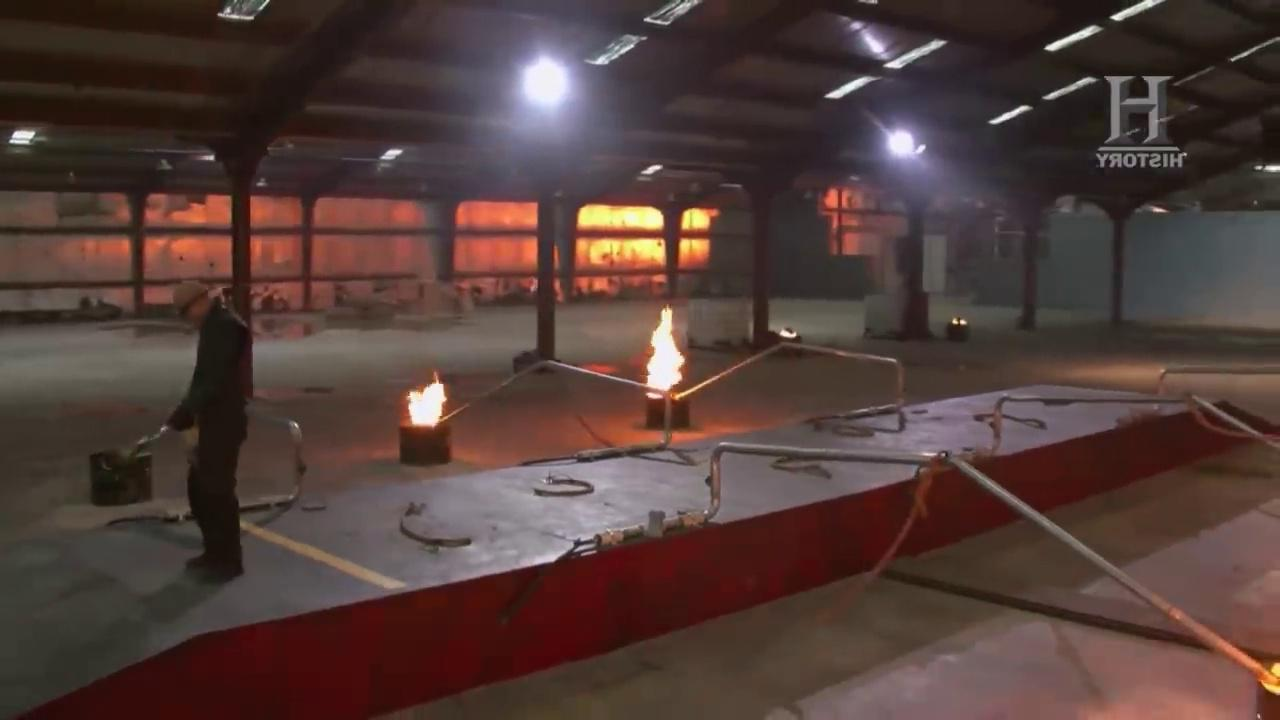Fire: (579, 212, 714, 277), (630, 311, 700, 406), (403, 378, 461, 429)
